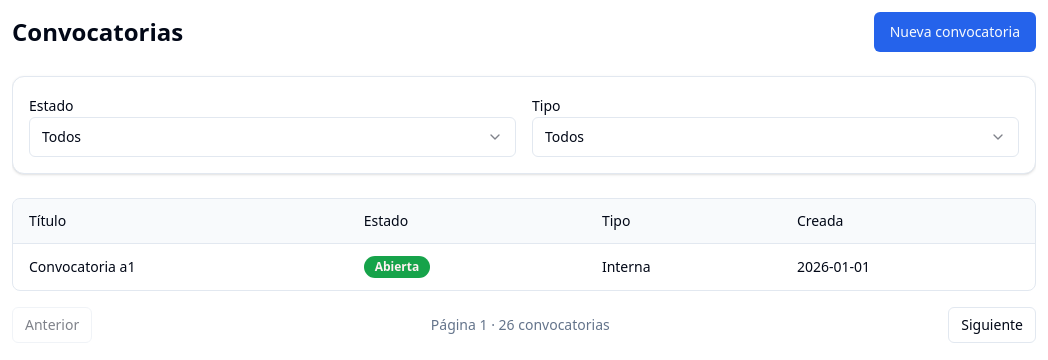
Test: CallList — paginated rows › goes back with the Anterior control to the previous page
The width and height of the screenshot is (1048, 360).
Expected: the link "Convocatoria a1" is shown, [29, 257, 135, 276]
Step 1. Click the button "Siguiente" → (992, 325), box [948, 307, 1036, 343]
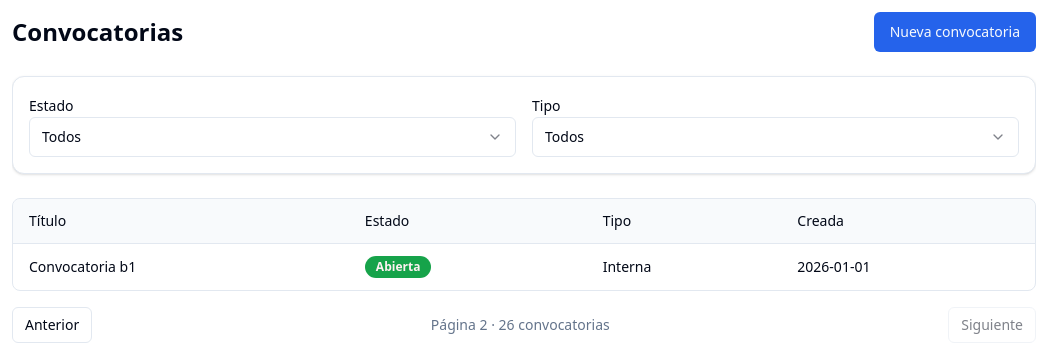
Result: the link "Convocatoria b1" is shown at [29, 257, 136, 276]
Step 2. Click the button "Anterior" → (52, 325), box [12, 307, 92, 343]
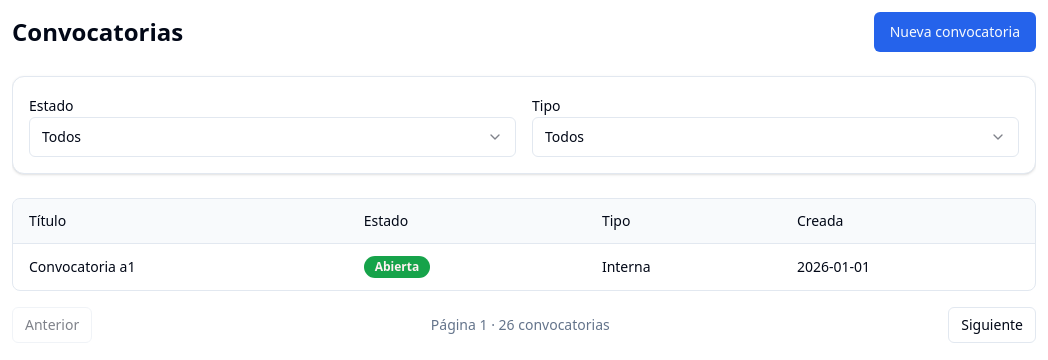
Result: the link "Convocatoria a1" is shown at [29, 257, 135, 276]
Result: the link "Convocatoria b1" is gone
